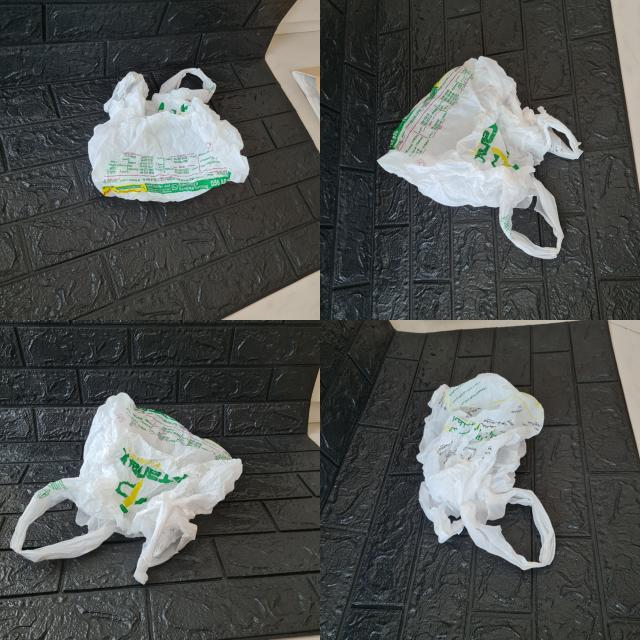Single-layer Plastic: (10, 392, 242, 584), (378, 56, 582, 259), (416, 372, 555, 570), (89, 68, 249, 202)
